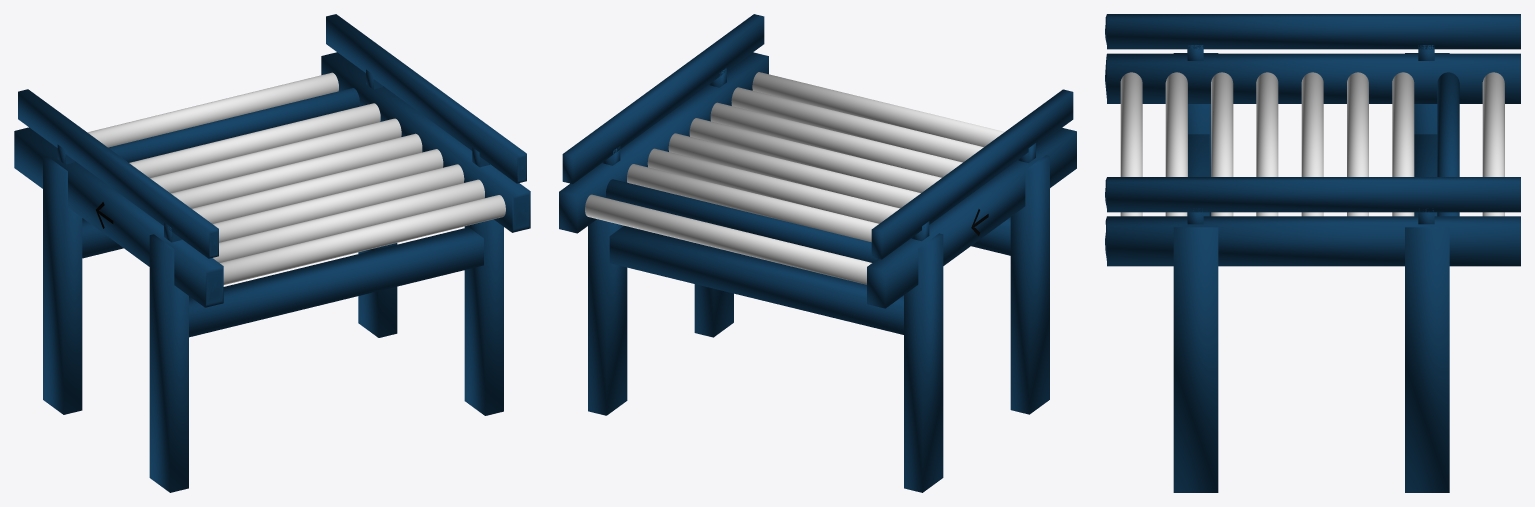
File: conveyors straight final.glb
The picture shows the model from 3 angles, left to right: view 1: azimuth 30°, elevation 25°; view 2: azimuth 150°, elevation 25°; view 3: azimuth 270°, elevation 25°; orthographic projection. The views are drawn at different scales.
Visible parts, largest first — view 1: Belt.040; view 2: Belt.040; view 3: Belt.040.
Part boxes in pixels (x1,y1,x2,y2): Belt.040: (14, 14, 530, 492); Belt.040: (559, 14, 1076, 492); Belt.040: (1105, 14, 1520, 492).
Size of the model in its own units: 8.06 by 6.54 by 8.01.
